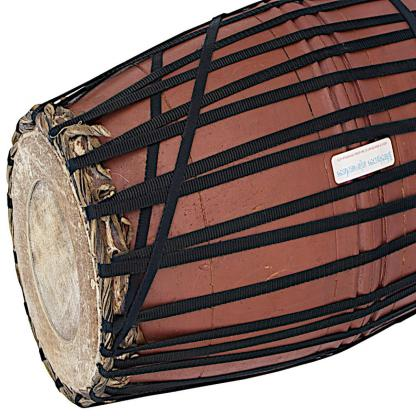Mridangam: (4, 1, 416, 415)
